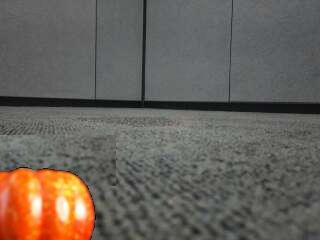Pumpkin: (0, 168, 95, 240)
